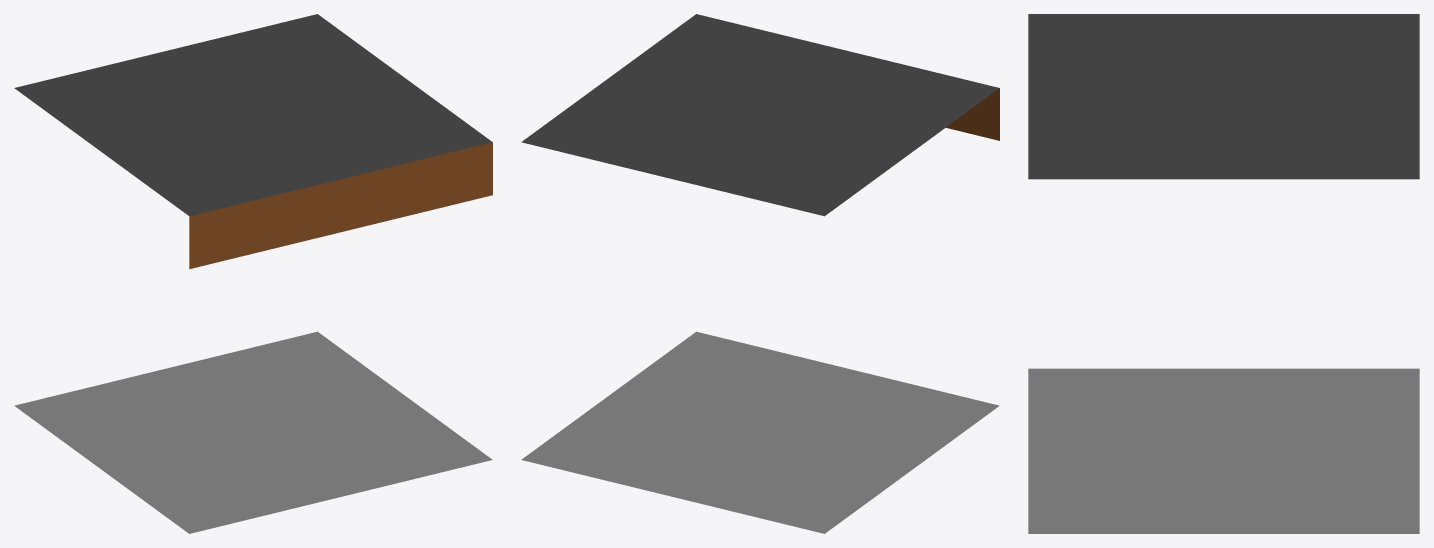
The model's file is wall_8_door.glb.
The picture shows the model from 3 angles, left to right: view 1: azimuth 30°, elevation 25°; view 2: azimuth 150°, elevation 25°; view 3: azimuth 270°, elevation 25°; orthographic projection. The views are drawn at different scales.
Parts seen in each view (by area): view 1: Cube; view 2: Cube; view 3: Cube.
Part boxes in pixels (x1=…): Cube: x1=14, y1=14, x2=492, y2=533; Cube: x1=521, y1=14, x2=999, y2=533; Cube: x1=1028, y1=14, x2=1419, y2=533.
Size of the model in its own units: 3 by 3 by 3.
1 material, 1 textured.
